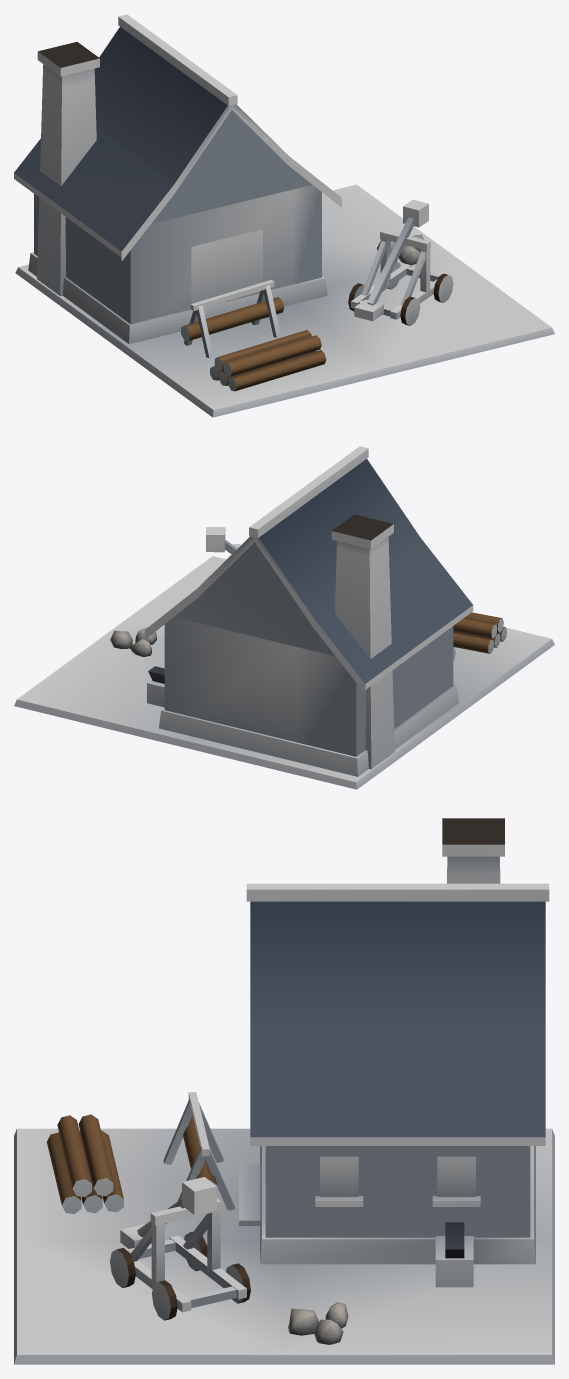
File: siege_workshop_t3.glb
3 views of the same model, one above another, from view 1: azimuth 30°, elevation 25°; view 2: azimuth 150°, elevation 25°; view 3: azimuth 270°, elevation 25° (orthographic). The views are drawn at different scales.
Visible parts, largest first — view 1: siege_workshop_t3; view 2: siege_workshop_t3; view 3: siege_workshop_t3.
Part boxes in pixels (<box>): siege_workshop_t3: <box>14,14,554,417</box>; siege_workshop_t3: <box>14,446,554,789</box>; siege_workshop_t3: <box>14,818,554,1364</box>.
Bounding box in the file's own units: 2.9 × 1.87 × 2.86.
